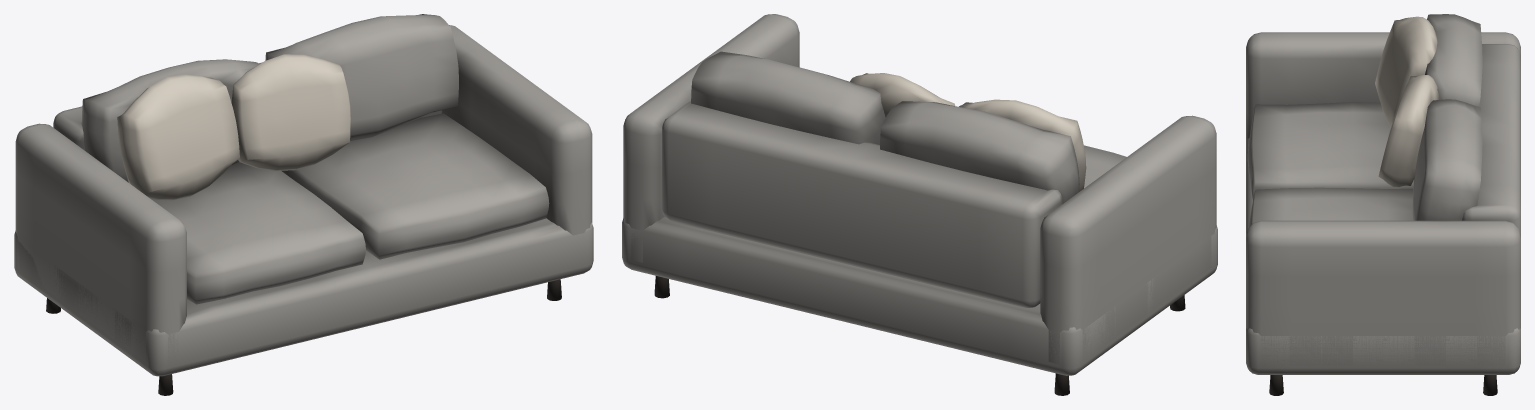
The model's file is canape2.glb.
The picture shows the model from 3 angles, left to right: view 1: azimuth 30°, elevation 25°; view 2: azimuth 150°, elevation 25°; view 3: azimuth 270°, elevation 25°; orthographic projection. The views are drawn at different scales.
Parts seen in each view (by area): view 1: socle, assises, coussins, dossiers, pieds; view 2: socle, dossiers, coussins, assises, pieds; view 3: socle, assises, dossiers, coussins, pieds.
Part boxes in pixels (x1=…): socle: x1=14, y1=25, x2=593, y2=376; assises: x1=151, y1=113, x2=549, y2=304; coussins: x1=117, y1=54, x2=350, y2=200; dossiers: x1=81, y1=14, x2=458, y2=182; pieds: x1=46, y1=279, x2=561, y2=395; socle: x1=622, y1=14, x2=1217, y2=375; dossiers: x1=691, y1=51, x2=1079, y2=203; coussins: x1=850, y1=73, x2=1086, y2=191; assises: x1=1084, y1=145, x2=1126, y2=188; pieds: x1=654, y1=276, x2=1185, y2=395; socle: x1=1246, y1=32, x2=1520, y2=374; assises: x1=1247, y1=102, x2=1413, y2=227; dossiers: x1=1412, y1=14, x2=1482, y2=220; coussins: x1=1375, y1=16, x2=1439, y2=187; pieds: x1=1269, y1=375, x2=1497, y2=395.
Bounding box in the file's own units: 1.6 × 0.8199 × 0.9.
